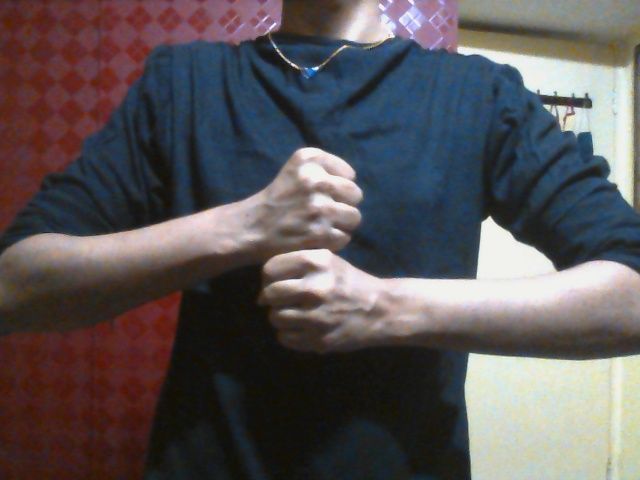G: (255, 146, 383, 355)
